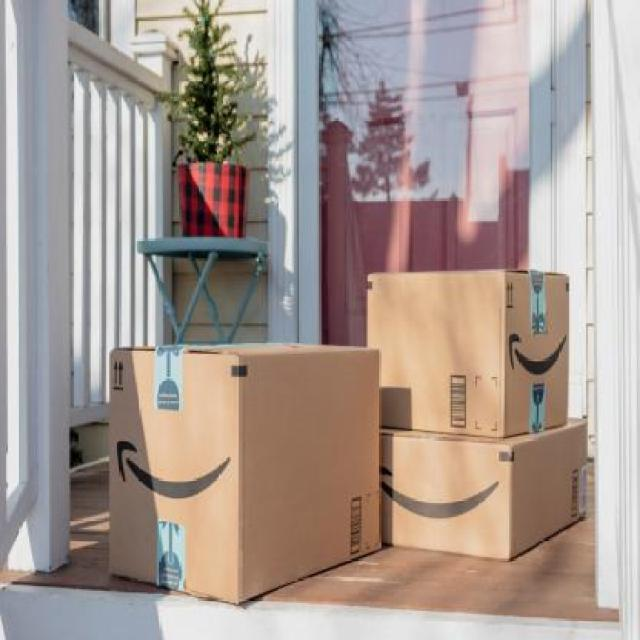cardboxes: (105, 340, 383, 603), (365, 265, 573, 429), (374, 416, 589, 561)
